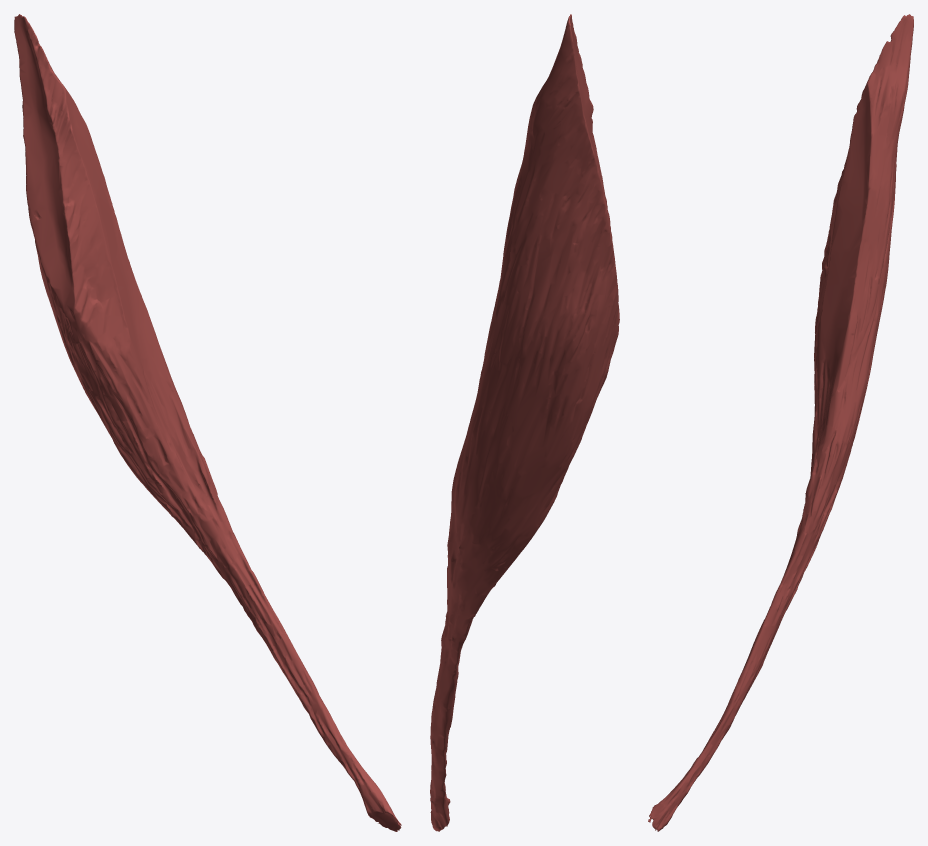
Rendered from FMA38517.glb.
3 renders of one model, left to right at view 1: azimuth 30°, elevation 25°; view 2: azimuth 150°, elevation 25°; view 3: azimuth 270°, elevation 25°, orthographic. The views are drawn at different scales.
Visible parts, largest first — view 1: FMA38517; view 2: FMA38517; view 3: FMA38517.
Boxes of the visible parts, x1,y1,x2,y2 form: FMA38517: [14, 14, 401, 831]; FMA38517: [430, 14, 619, 831]; FMA38517: [648, 14, 913, 831].
Size of the model in its own units: 0.062 by 0.1818 by 0.0617.
